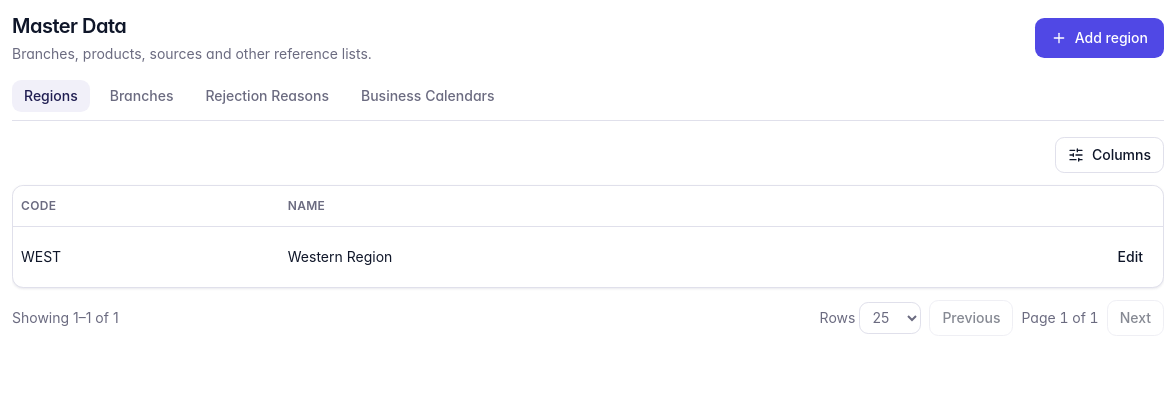
Test: MasterDataPage › switches resources via the selector and lists the new resource
expect the text "Western Region" is shown: met, box [280,226,852,286]
Click the button "Rejection Reasons".
click(267, 96)  # box [193,80,341,112]
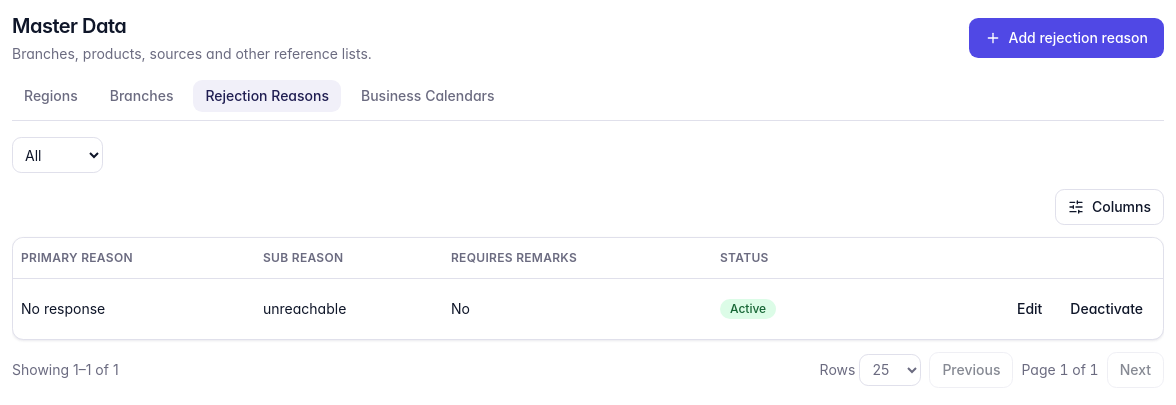
expect the text "No response" is shown: met, box [13,278,255,338]
expect the text "unreachable" is shown: met, box [255,278,443,338]
expect the dropdown named "Filter by status" is shown: met, box [12,137,103,173]
